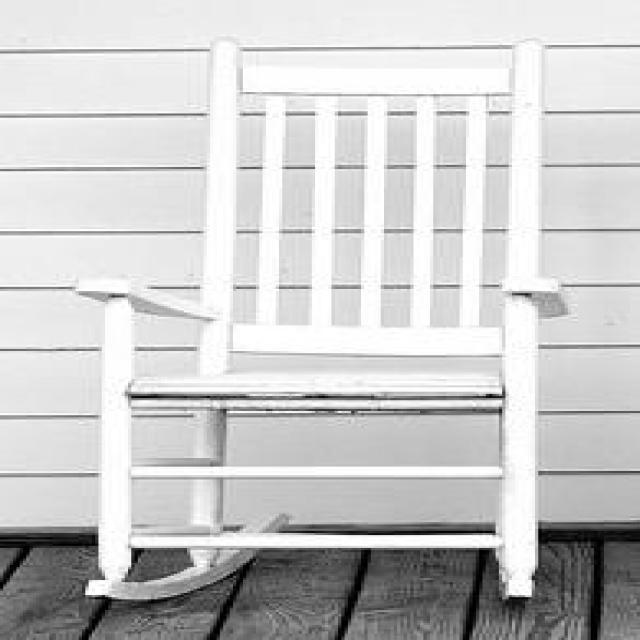chair: (77, 38, 580, 610)
